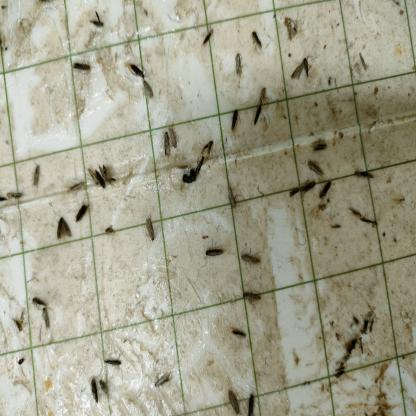prays_oleae: (51, 208, 75, 249), (252, 90, 274, 132), (240, 281, 264, 308), (240, 240, 262, 269), (140, 214, 159, 244), (291, 52, 312, 78), (352, 162, 379, 181), (204, 240, 227, 262), (28, 165, 46, 193), (283, 13, 302, 39), (225, 386, 242, 414), (150, 370, 171, 391), (128, 58, 146, 82), (5, 181, 25, 202), (226, 180, 240, 210), (102, 353, 124, 372), (228, 50, 244, 76), (200, 138, 217, 162), (92, 165, 106, 194), (228, 107, 243, 134), (88, 378, 103, 404), (168, 126, 181, 154), (312, 139, 331, 158), (72, 202, 90, 222), (86, 16, 108, 32), (38, 308, 53, 331), (306, 156, 324, 175), (72, 59, 92, 76), (231, 323, 248, 343), (319, 178, 333, 202), (301, 178, 317, 198), (193, 154, 206, 178), (160, 130, 172, 156), (250, 28, 263, 51), (12, 316, 26, 334), (200, 31, 213, 50), (245, 393, 256, 415), (88, 166, 98, 190), (30, 293, 47, 307), (66, 181, 84, 193), (142, 80, 154, 97), (100, 377, 110, 397), (286, 186, 302, 197)
